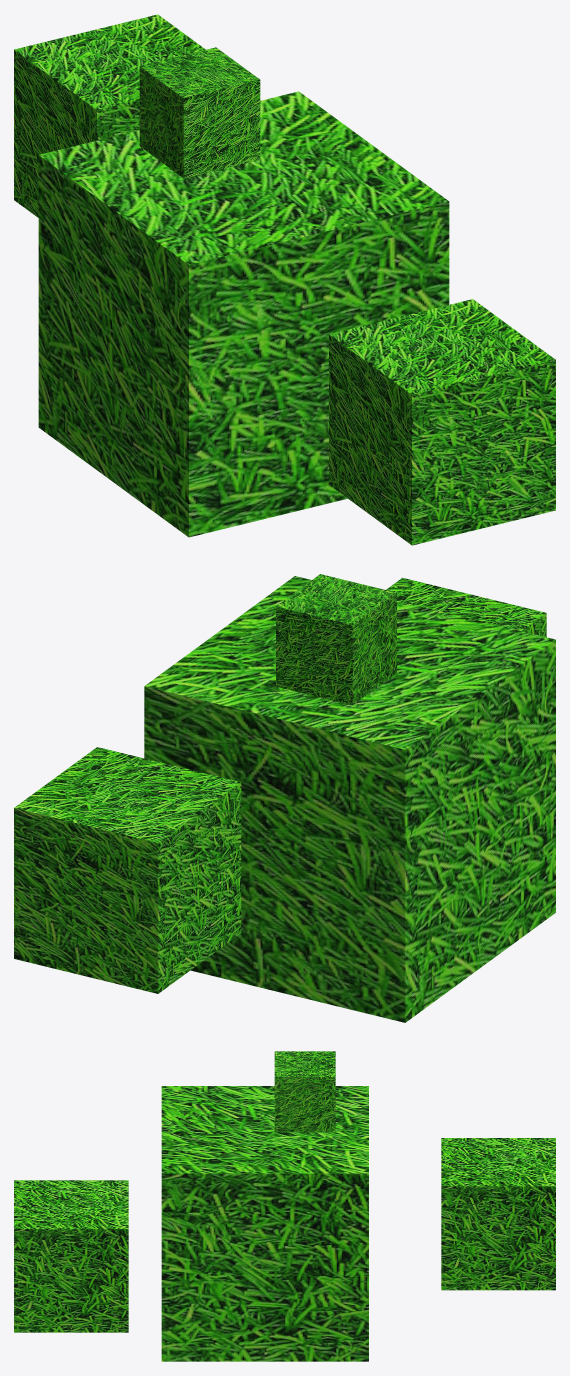
The model's file is cubes.gltf.
The picture shows the model from 3 angles, top to bottom: view 1: azimuth 30°, elevation 25°; view 2: azimuth 150°, elevation 25°; view 3: azimuth 270°, elevation 25°; orthographic projection. The views are drawn at different scales.
Visible parts, largest first — view 1: Cube.002, Cube.003, Cube.004, Cube.001; view 2: Cube.002, Cube.004, Cube.001, Cube.003; view 3: Cube.002, Cube.003, Cube.004, Cube.001.
Boxes of the visible parts, x1,y1,x2,y2 form: Cube.002: (38,91,449,537); Cube.003: (329,299,555,545); Cube.004: (14,14,205,217); Cube.001: (139,47,260,178); Cube.002: (144,576,555,1022); Cube.004: (14,747,241,993); Cube.001: (276,574,396,705); Cube.003: (386,577,546,637); Cube.002: (161,1086,368,1361); Cube.003: (14,1180,128,1332); Cube.004: (441,1138,555,1290); Cube.001: (274,1051,335,1132).
Bounding box in the file's own units: 1.97 × 2.61 × 5.15.
1 material, 1 textured.
